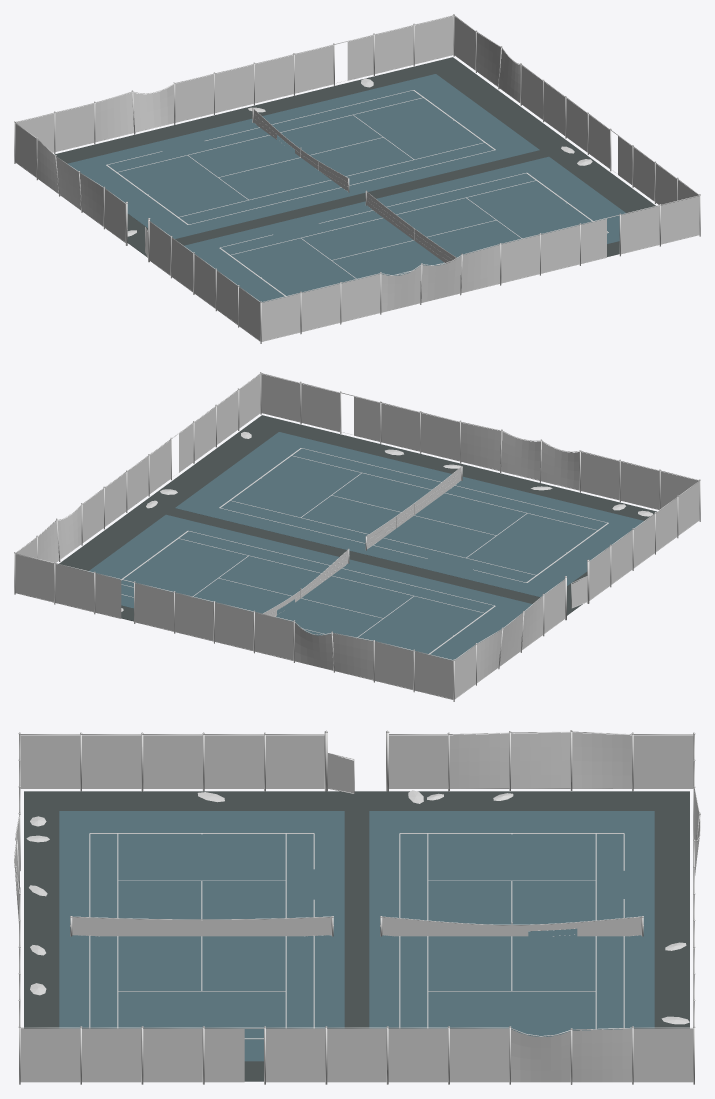
Rendered from tennis_court.glb.
The picture shows the model from 3 angles, top to bottom: view 1: azimuth 30°, elevation 25°; view 2: azimuth 150°, elevation 25°; view 3: azimuth 270°, elevation 25°; orthographic projection. The views are drawn at different scales.
Parts seen in each view (by area): view 1: tennis_court; view 2: tennis_court; view 3: tennis_court.
Boxes of the visible parts, box(x1,y1,x2,y2) form: tennis_court: box(14, 14, 700, 343); tennis_court: box(14, 372, 700, 701); tennis_court: box(14, 730, 700, 1084).
Size of the model in its own units: 34.62 by 3.52 by 33.62.
